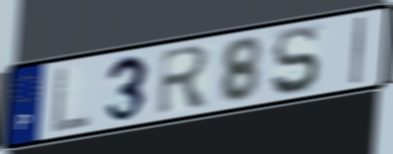3: (103, 51, 154, 127)
8: (218, 34, 264, 105)
I: (349, 14, 368, 87)
L: (49, 63, 93, 136)
R: (155, 42, 212, 118)
S: (269, 24, 322, 98)
